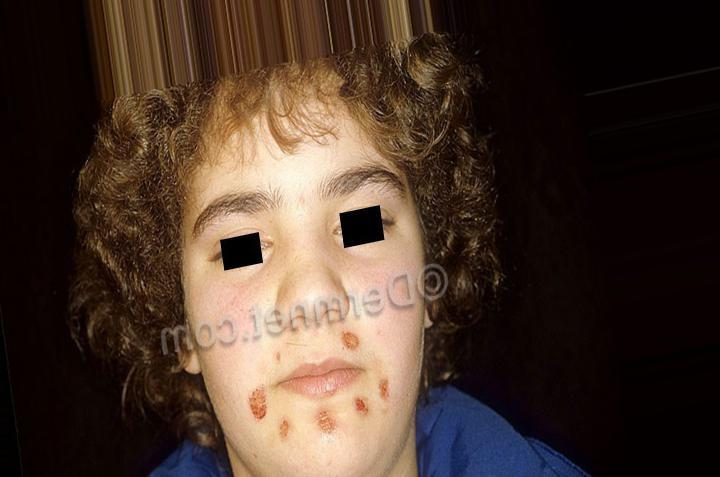Acne: (234, 379, 299, 432), (301, 407, 365, 442), (274, 412, 326, 443), (347, 394, 380, 425), (331, 327, 370, 351), (367, 371, 392, 395)
